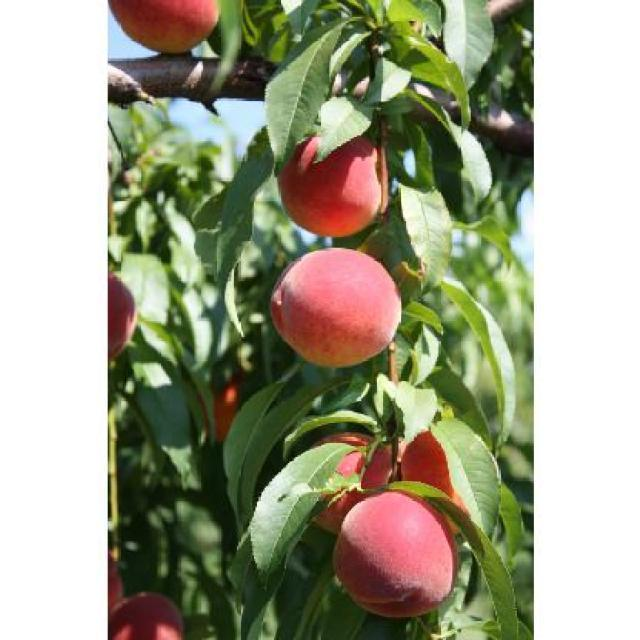Peach: (334, 490, 460, 621), (268, 245, 400, 370), (275, 130, 377, 236), (304, 430, 394, 533), (397, 427, 468, 530), (104, 0, 216, 54), (106, 593, 174, 638), (193, 369, 238, 437), (106, 272, 131, 366), (106, 550, 120, 607)
